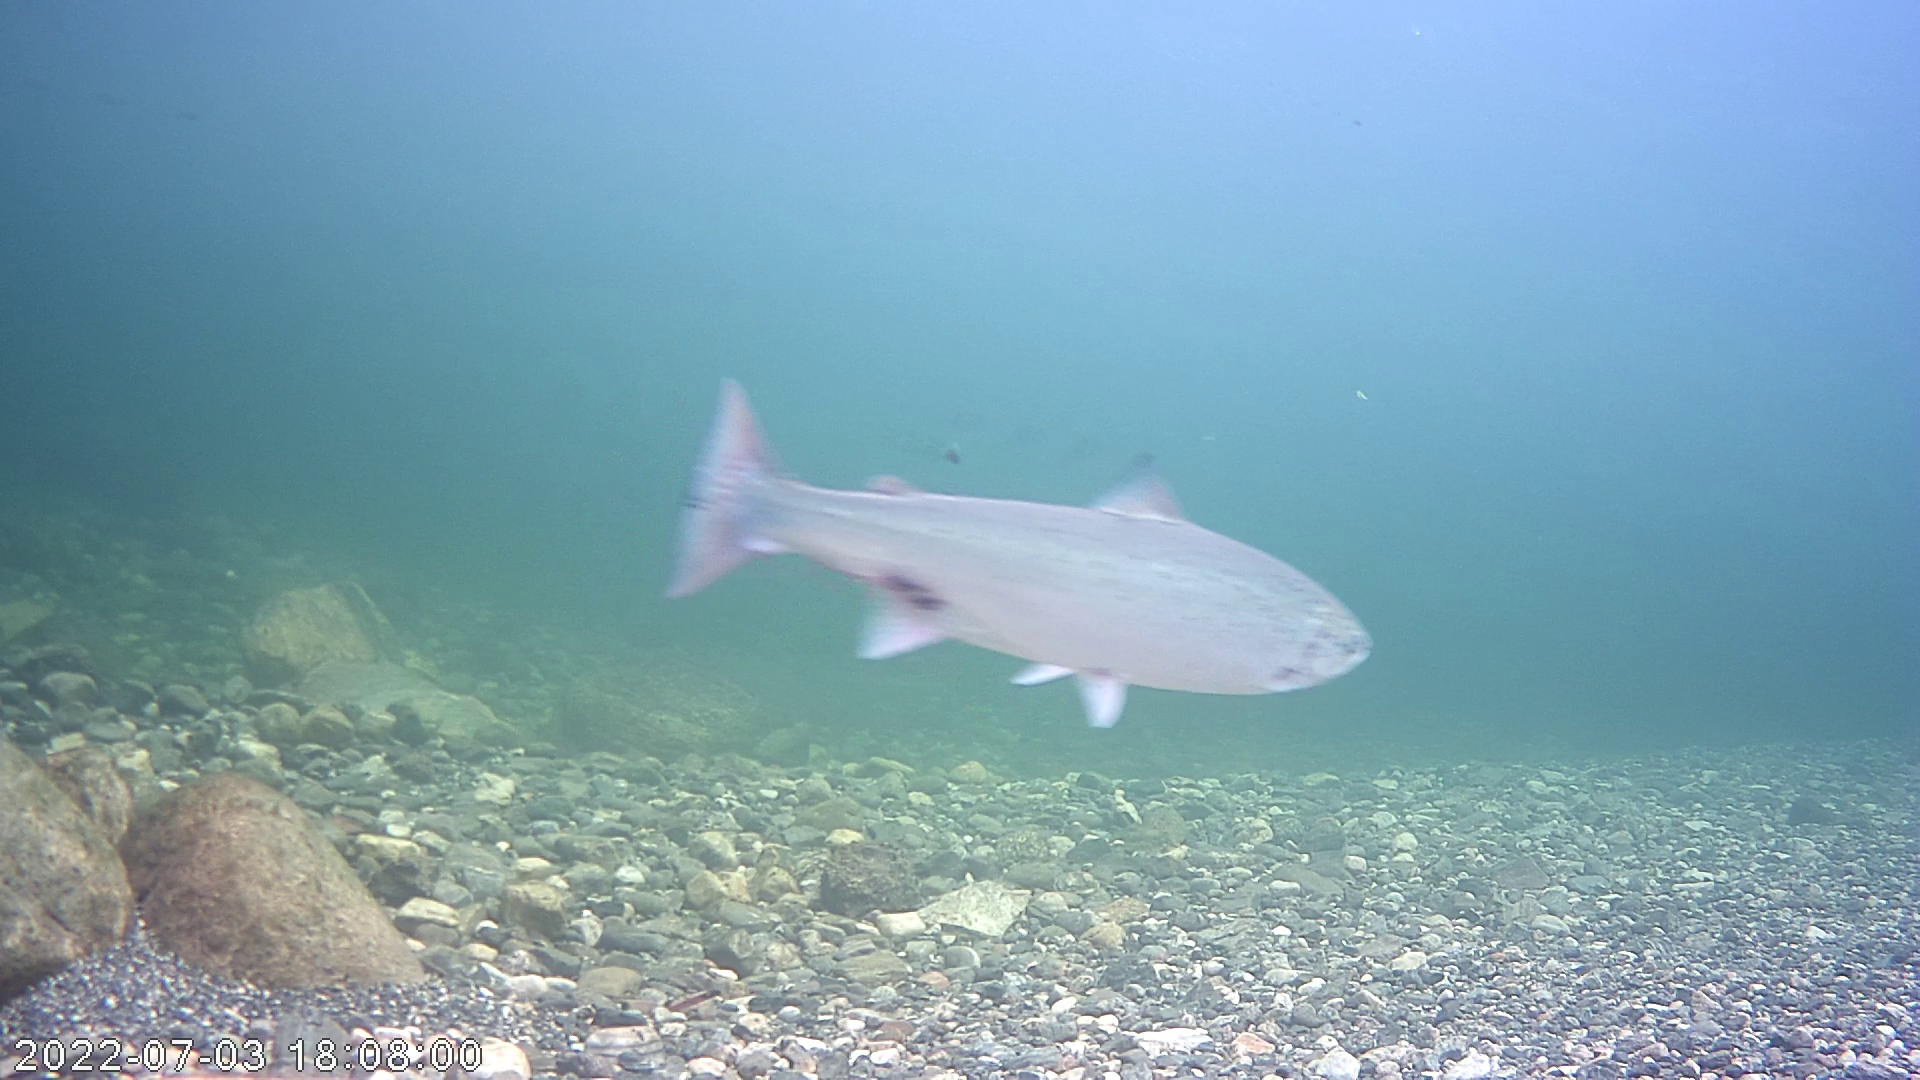salmon: (662, 375, 1377, 731)
